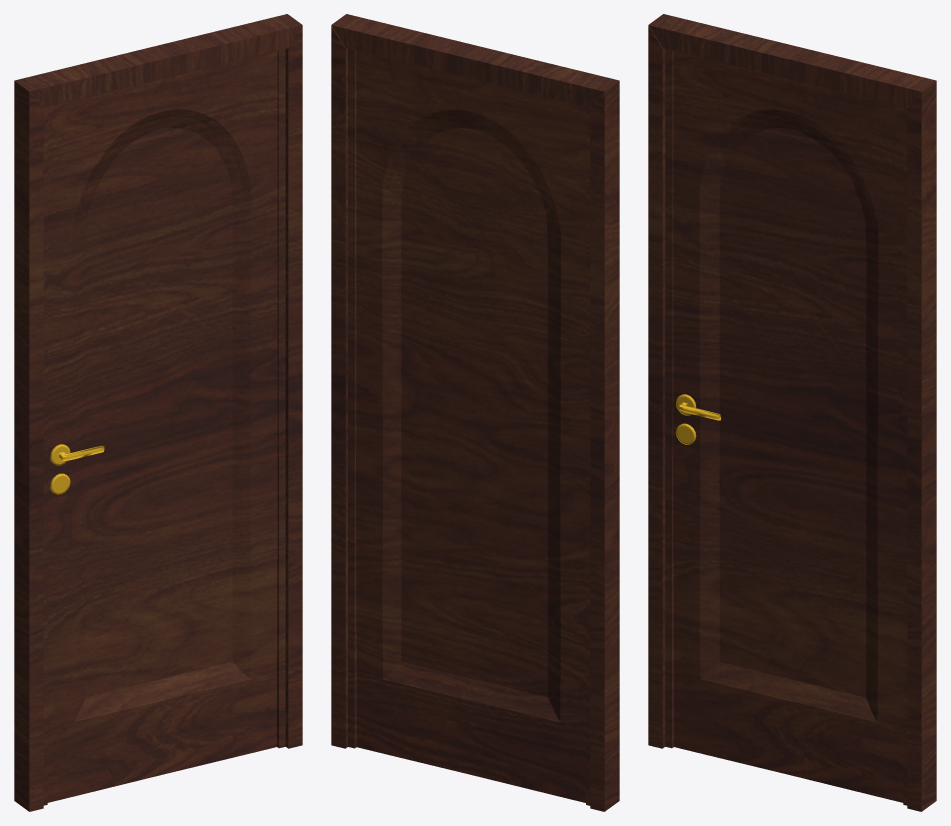
The model's file is PUERTA47_NEW_ENGLAND.glb.
3 views of the same model, side by side, from view 1: azimuth 30°, elevation 25°; view 2: azimuth 150°, elevation 25°; view 3: azimuth 330°, elevation 25° (orthographic).
Visible parts, largest first — view 1: Puerta47_NEW ENGLAND, Puerta47_Marco, Puerta47_Cerradura; view 2: Puerta47_NEW ENGLAND, Puerta47_Marco; view 3: Puerta47_NEW ENGLAND, Puerta47_Marco, Puerta47_Cerradura.
Part boxes in pixels (bbox=[...]): Puerta47_NEW ENGLAND: bbox=[43, 49, 285, 805]; Puerta47_Marco: bbox=[14, 14, 302, 811]; Puerta47_Cerradura: bbox=[50, 444, 104, 494]; Puerta47_NEW ENGLAND: bbox=[348, 49, 590, 805]; Puerta47_Marco: bbox=[331, 14, 619, 811]; Puerta47_NEW ENGLAND: bbox=[665, 49, 907, 805]; Puerta47_Marco: bbox=[648, 14, 936, 811]; Puerta47_Cerradura: bbox=[675, 394, 721, 444].
Bounding box in the file's own units: 769 × 1936 × 85.
4 materials, 3 textured.
